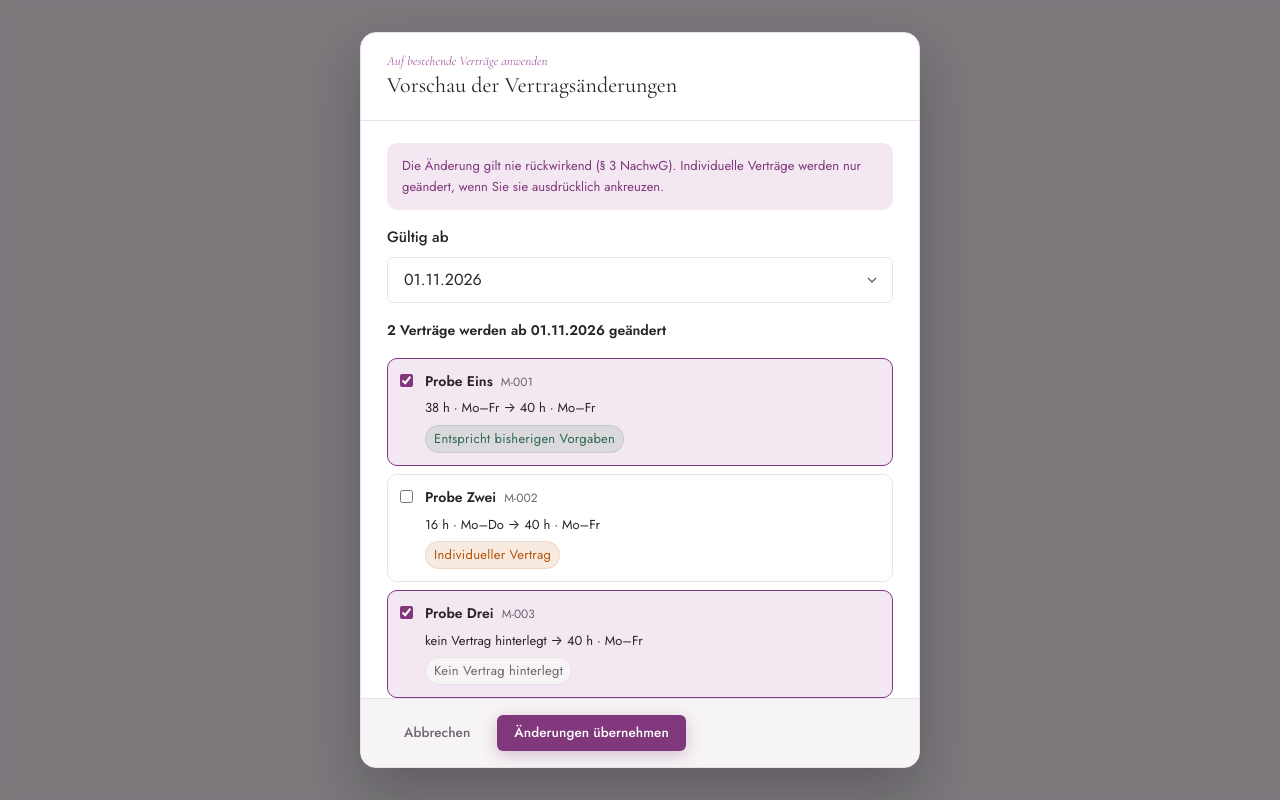
Test case: BulkApplyDialog › shows another server rejection inside the dialog
Expected: the text "Probe Eins" is shown, [425, 371, 493, 392]
Click the button "Änderungen übernehmen" at [592, 733], box [497, 715, 686, 751]
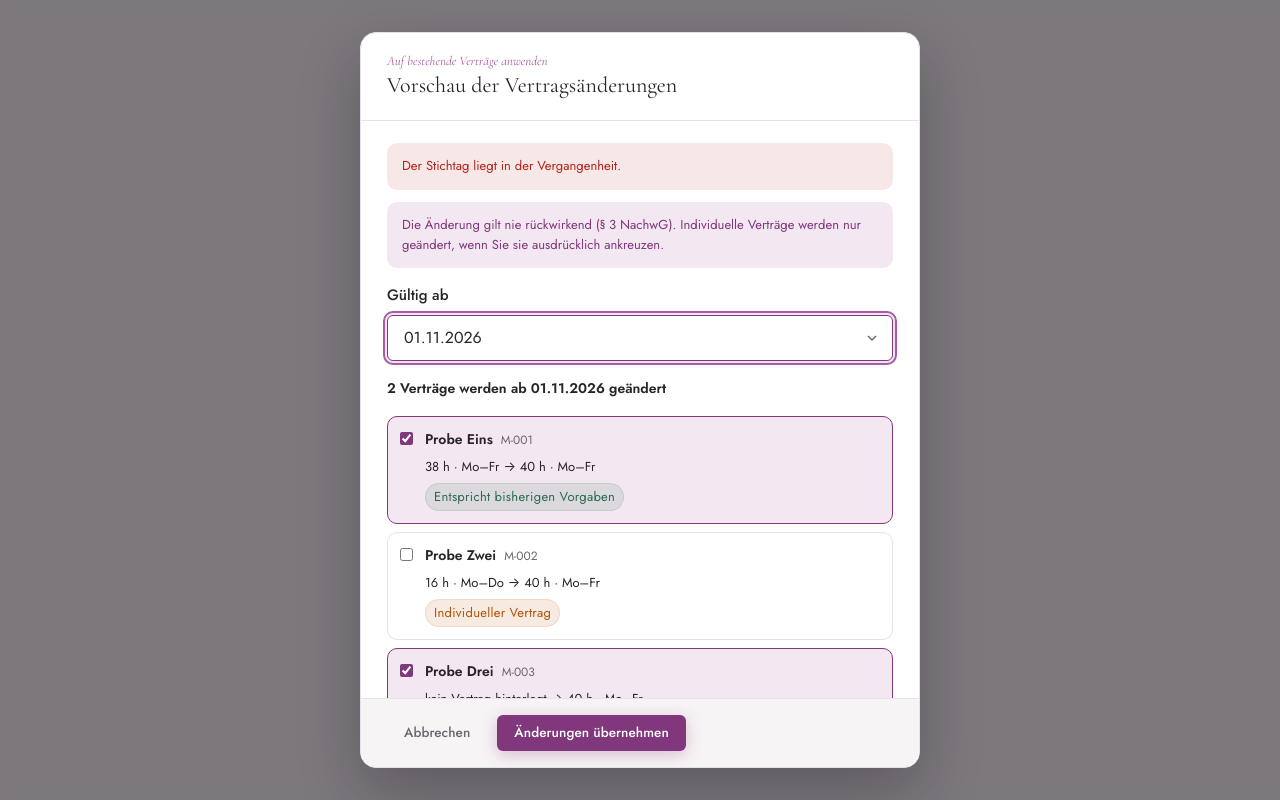
Expected: the dialog is shown, [360, 32, 920, 768]
Expected: the message "Der Stichtag liegt in der Vergangenheit." is shown, [387, 143, 893, 190]
